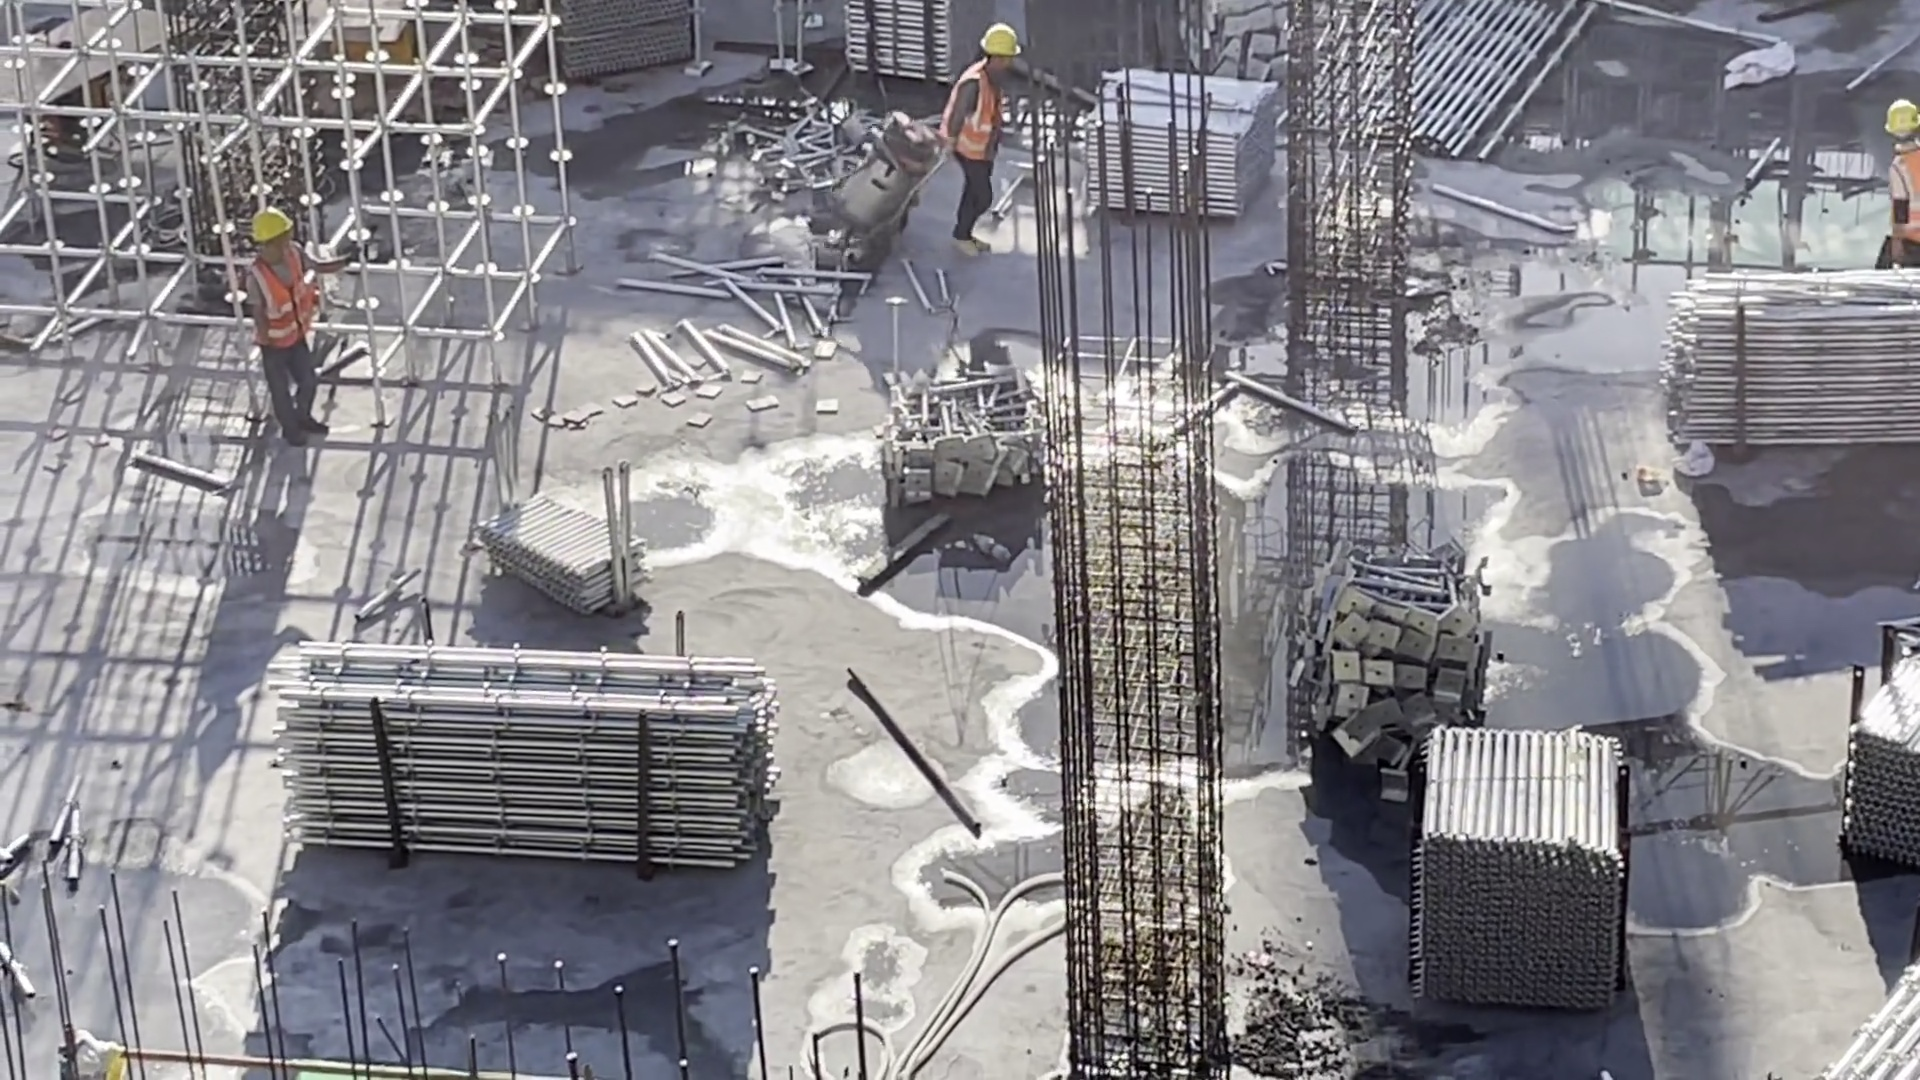cutter: (6, 11, 208, 176), (293, 1, 429, 112)
helmet: (251, 198, 289, 256), (1878, 97, 1920, 148), (980, 20, 1019, 57)
person: (233, 209, 356, 439), (938, 17, 1019, 249), (1845, 91, 1920, 266)
scaffold: (272, 642, 786, 883), (1410, 726, 1630, 1000), (1659, 270, 1920, 456), (1290, 559, 1491, 778), (1366, 1, 1621, 171), (1094, 73, 1282, 227), (487, 474, 639, 617), (882, 371, 1037, 497), (1835, 646, 1920, 856), (510, 1, 699, 81), (1790, 969, 1920, 1076), (1195, 1, 1297, 103), (844, 1, 955, 93), (769, 114, 862, 183)
vest: (247, 251, 324, 344), (938, 63, 1009, 160), (1885, 153, 1920, 233)
